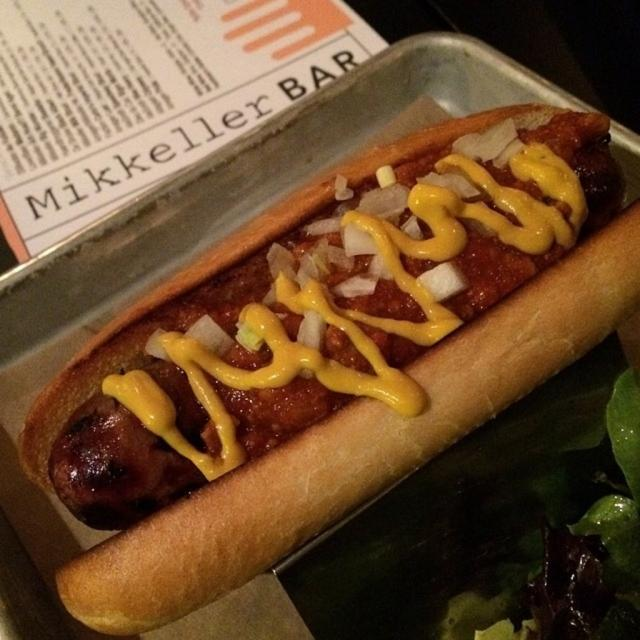Hot dog: (18, 92, 639, 639)
